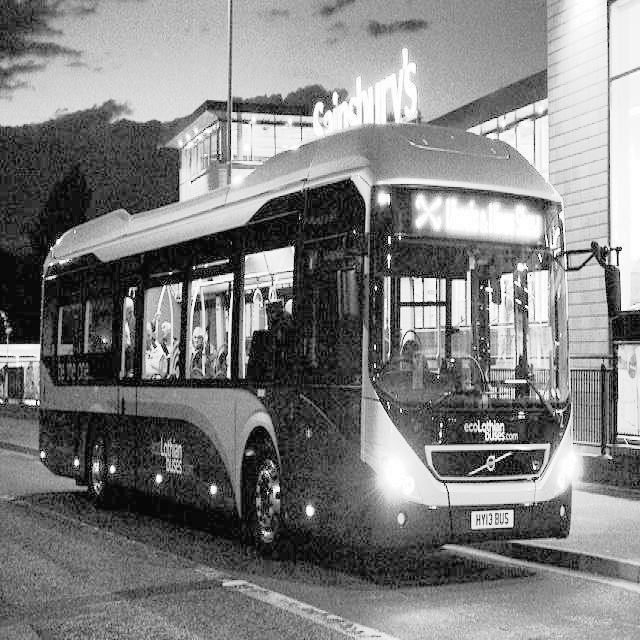Bus: (30, 164, 601, 614)
